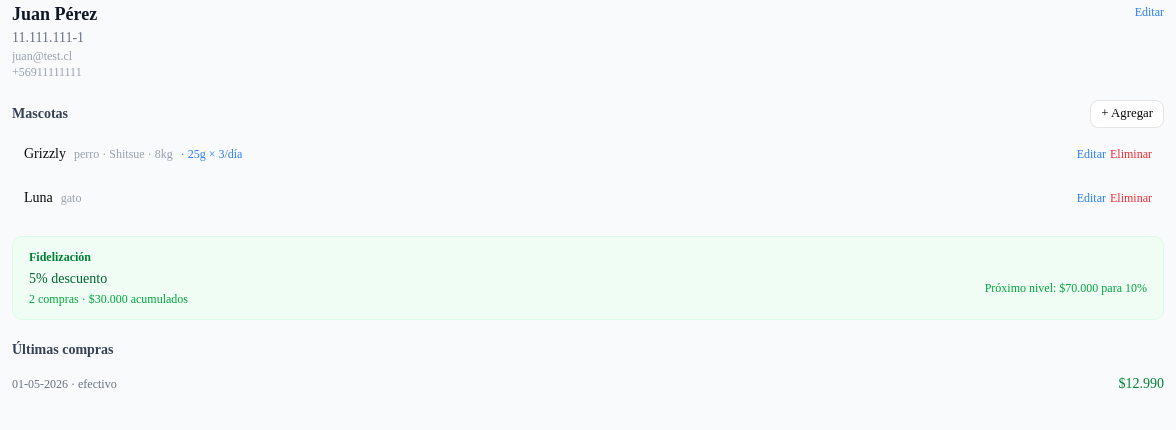
it: ClienteDetalle — edición › CD-14: eliminar mascota con error de la API muestra el mensaje; Cancelar descarta la confirmación
expect the text "Grizzly" is shown: met, box [24,146,66,161]
Click the button "Eliminar" in the row of "/día". click: (1131, 154)
box: [1110,146,1152,162]
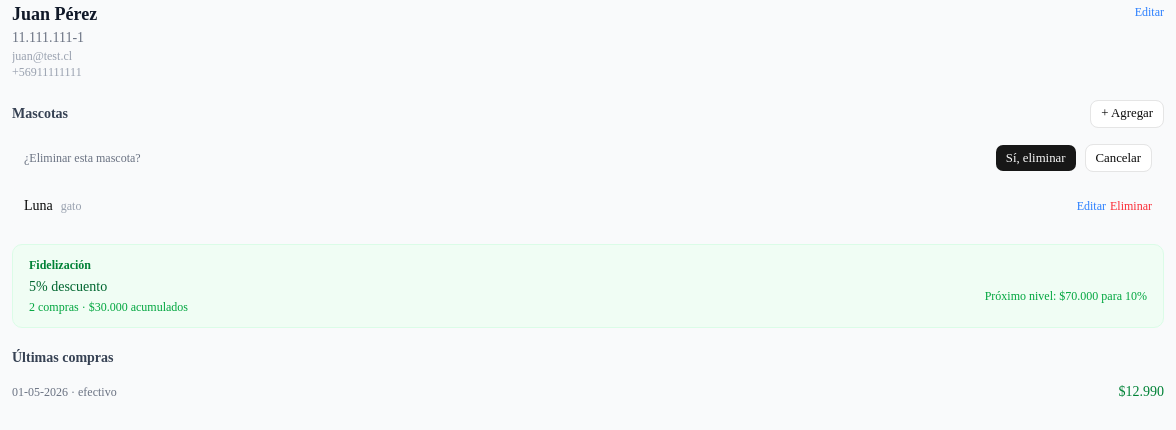
Click the button "Sí, eliminar". click: (1036, 158)
box: [995,144,1076,172]
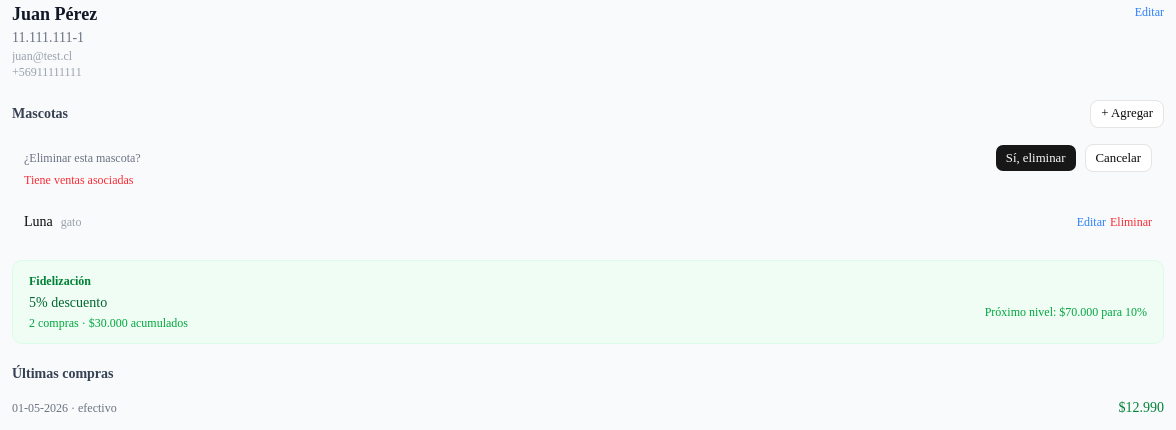
expect the text "Tiene ventas asociadas" is shown: met, box [24,173,134,187]
Click the button "Cancelar". click: (1118, 158)
box: [1084,144,1152,172]
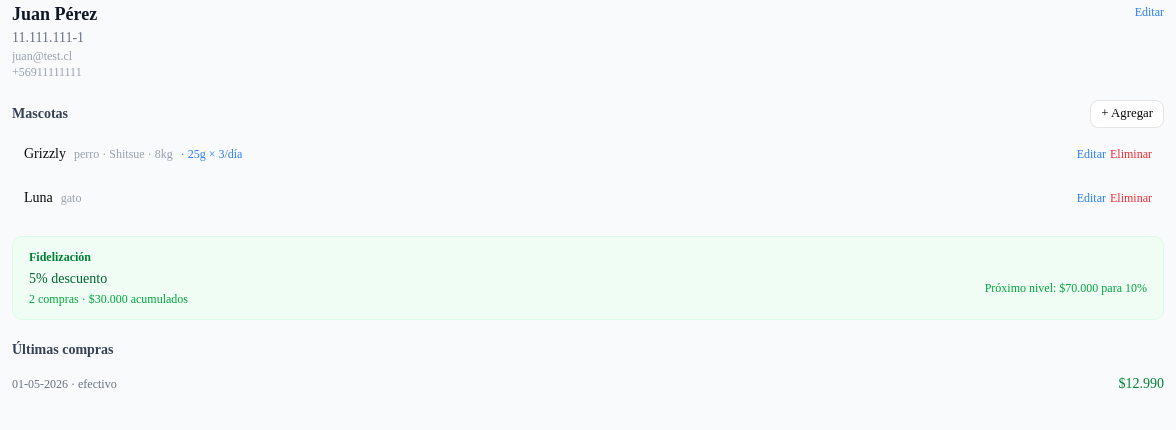
expect the text "¿Eliminar esta mascota?" is gone: met
